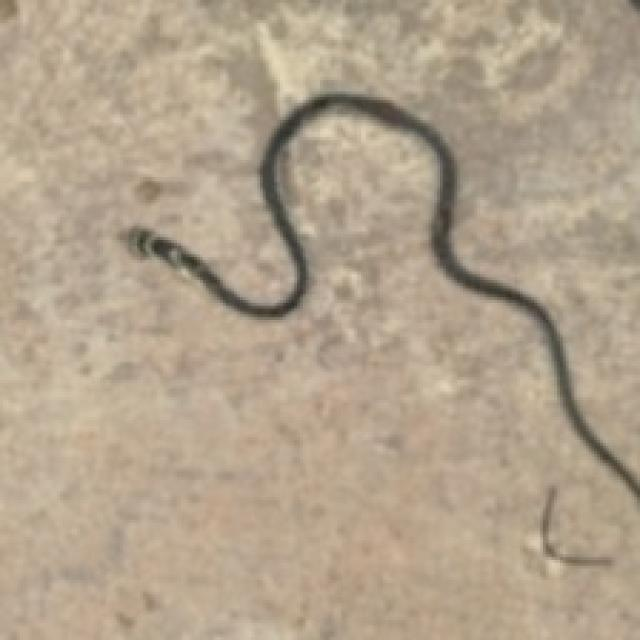king cobra: (126, 91, 637, 500)
